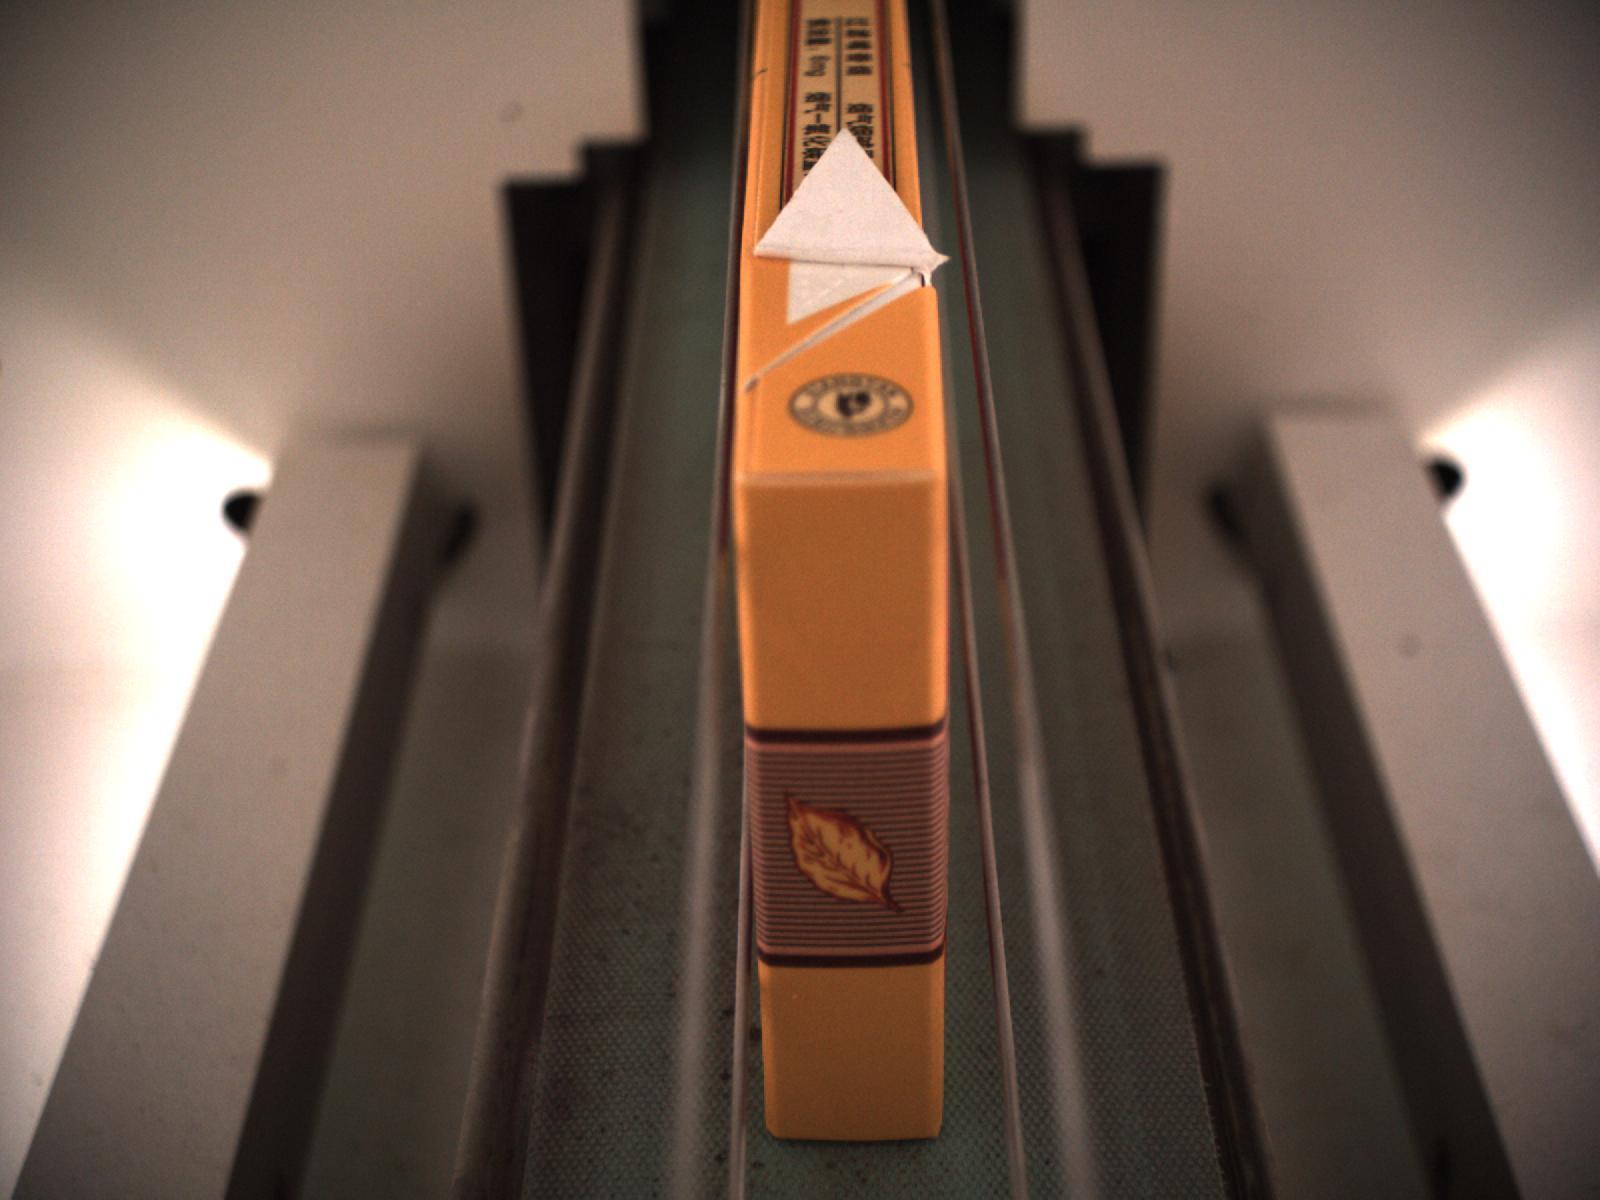outerFold_upper_2: (743, 116, 947, 377)
